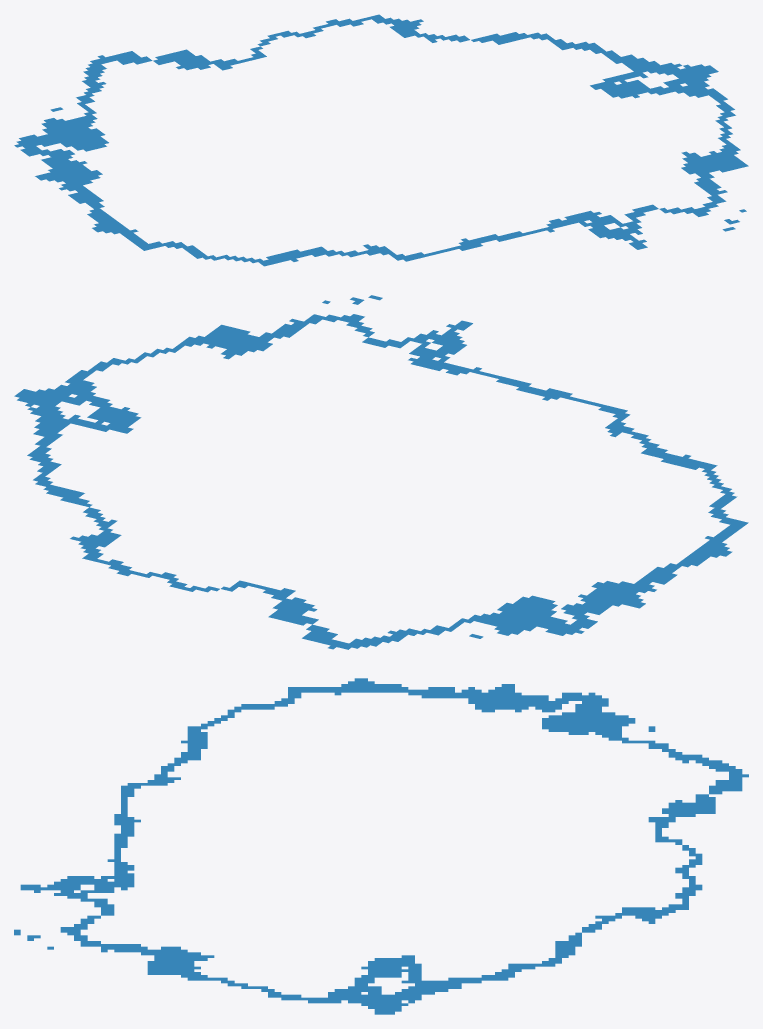
File: Isl-hilly4-PlaceForWaterObjects.fbx
3 renders of one model, top to bottom at view 1: azimuth 30°, elevation 25°; view 2: azimuth 150°, elevation 25°; view 3: azimuth 270°, elevation 25°, orthographic. The views are drawn at different scales.
Visible parts, largest first — view 1: Isl-hilly4-PlaceForWaterObjects; view 2: Isl-hilly4-PlaceForWaterObjects; view 3: Isl-hilly4-PlaceForWaterObjects.
Part boxes in pixels (left/top/right/bottom): Isl-hilly4-PlaceForWaterObjects: left=14, top=14, right=748, bottom=266; Isl-hilly4-PlaceForWaterObjects: left=14, top=295, right=748, bottom=649; Isl-hilly4-PlaceForWaterObjects: left=14, top=678, right=748, bottom=1014.
Bounding box in the file's own units: 119 × 0 × 110.
